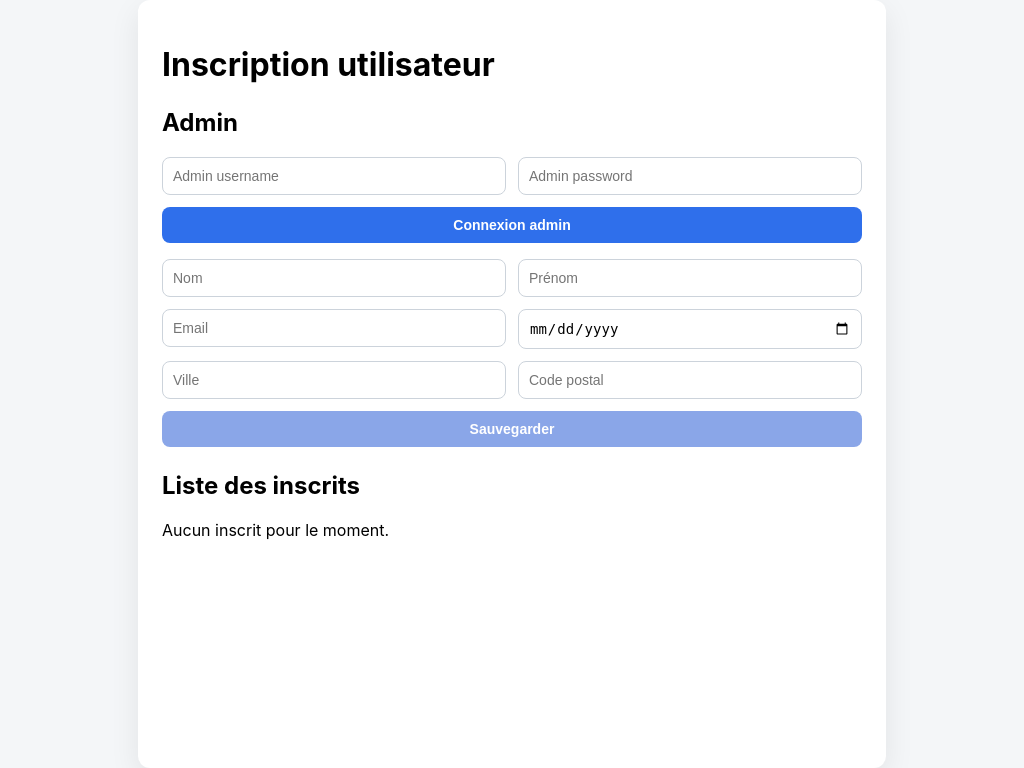
it: desactive le bouton tant que le formulaire est invalide
Expected: the button "Sauvegarder" is disabled, 162,411 -> 862,447
In the field labelled "Nom": (334, 278) 162,259 -> 506,297, type "Barrault"
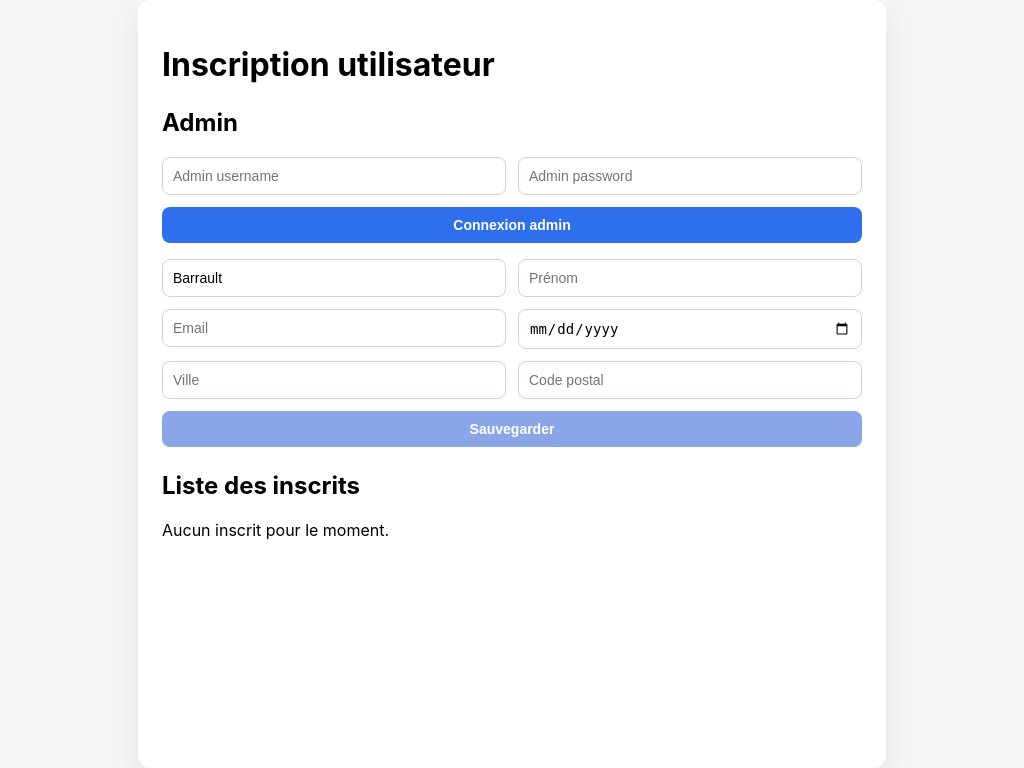
In the field labelled "Prénom": (690, 278) 518,259 -> 862,297, type "Thomas"
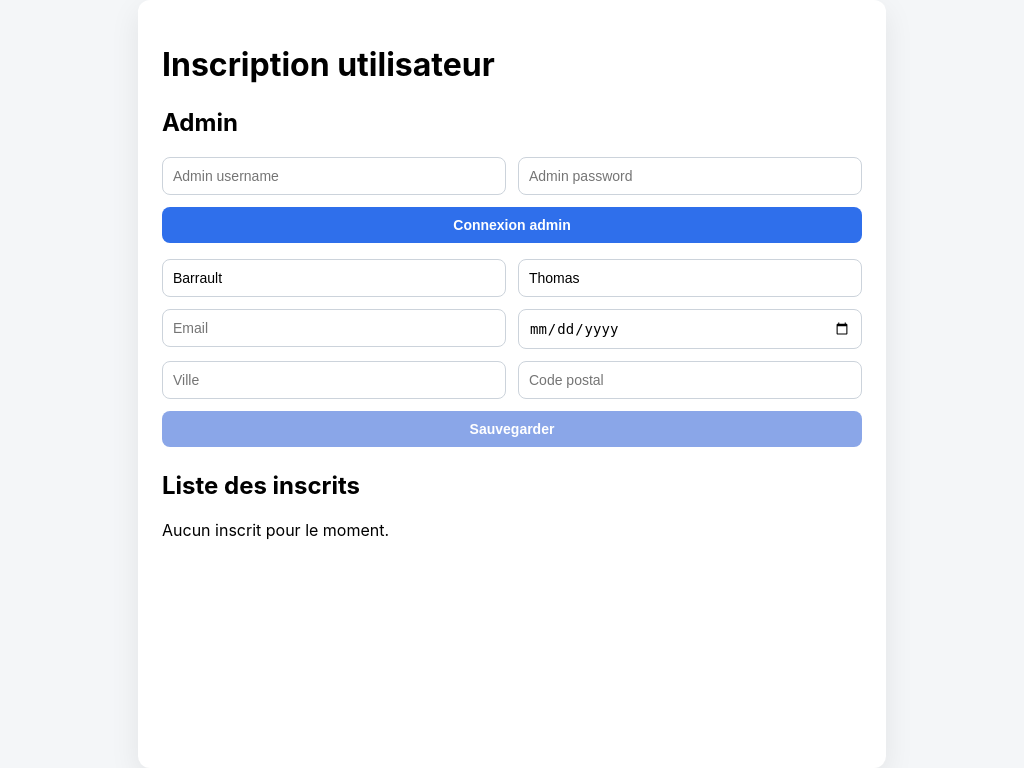
In the field labelled "Email": (334, 328) 162,309 -> 506,347, type "Thomas.Barrault@mail.com"
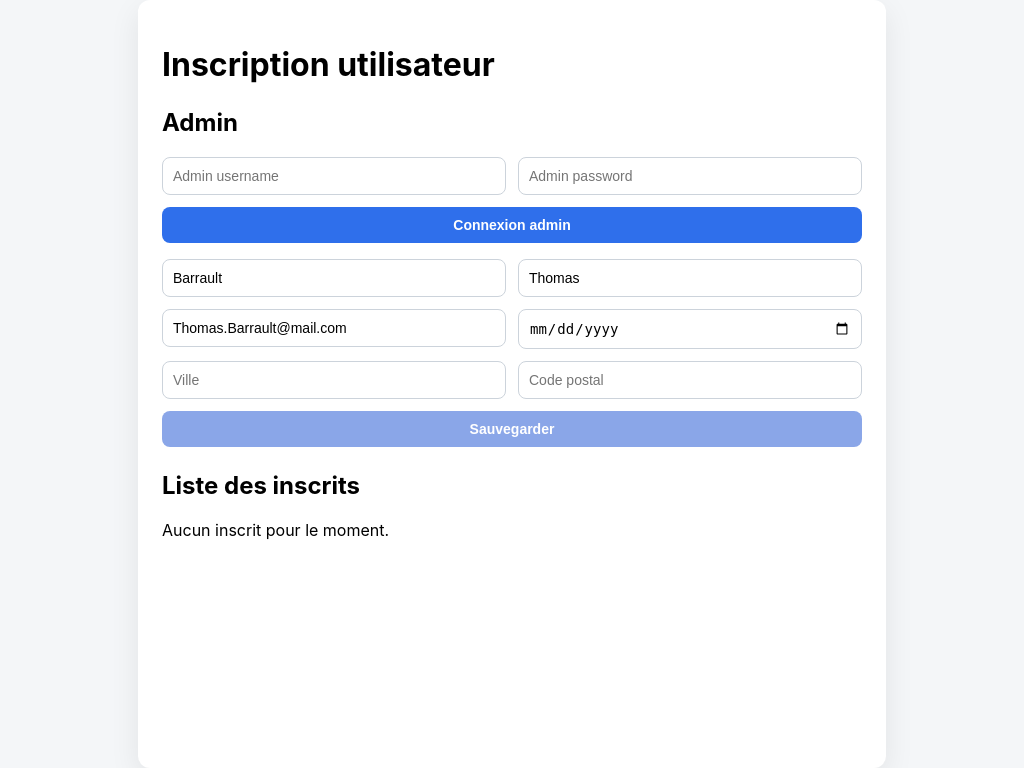
In the date field named "Date de naissance": (690, 329) 518,309 -> 862,349, type "2000-07-14"
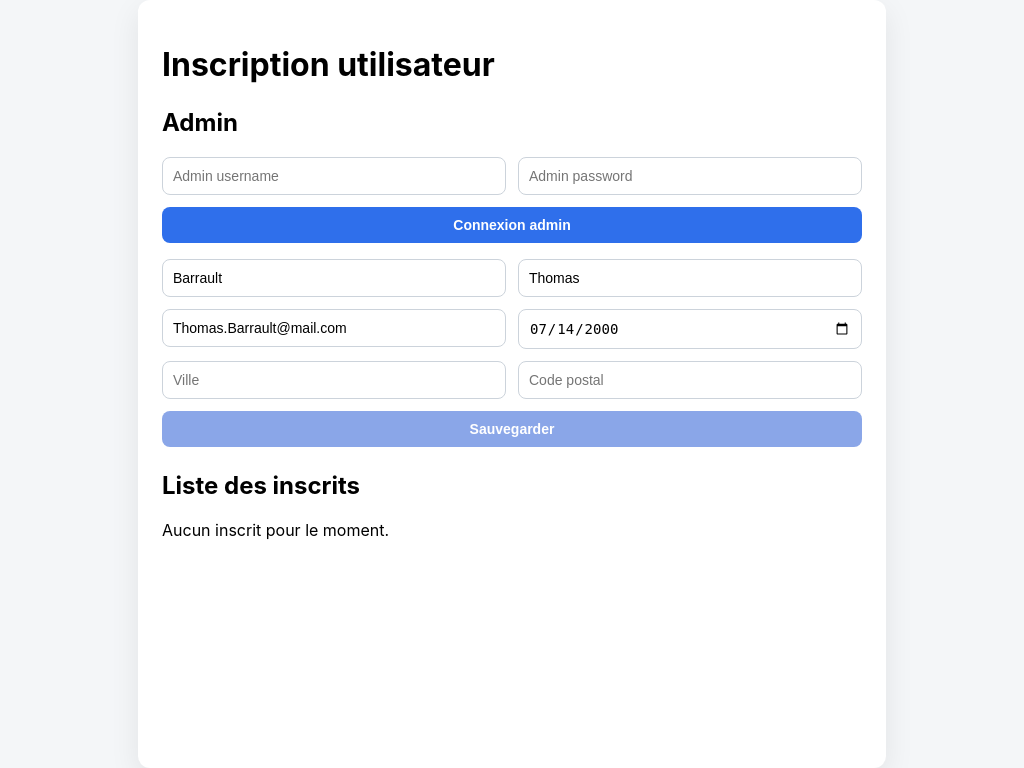
In the field labelled "Ville": (334, 380) 162,361 -> 506,399, type "Nice"
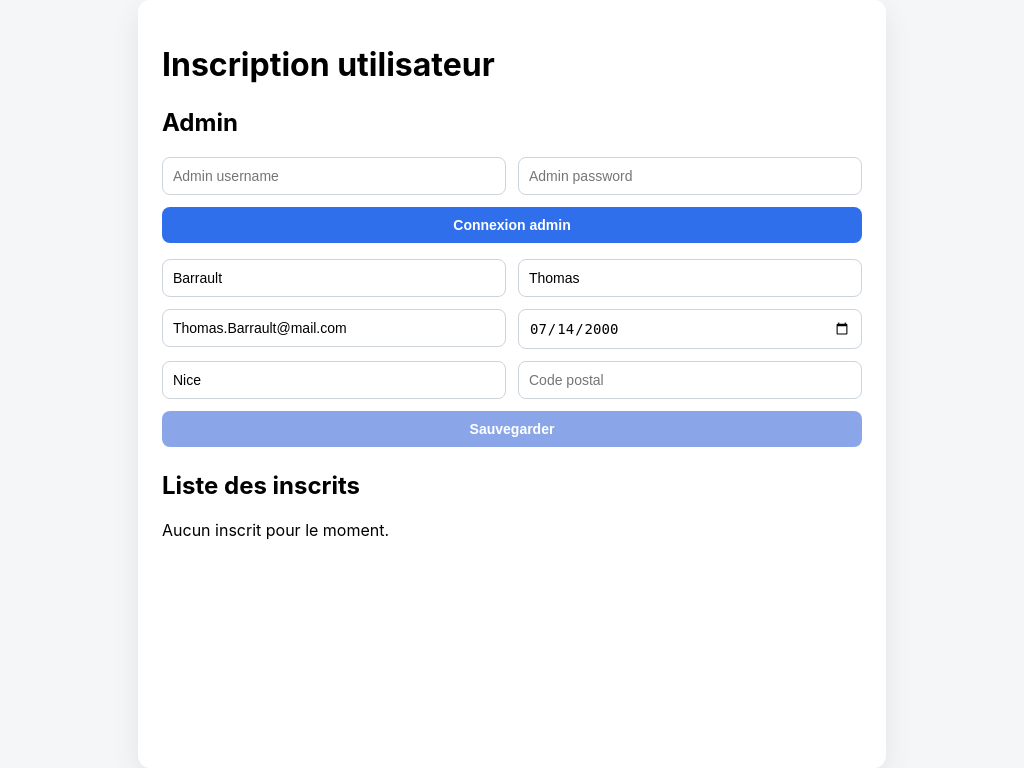
In the field labelled "Code postal": (690, 380) 518,361 -> 862,399, type "06640"
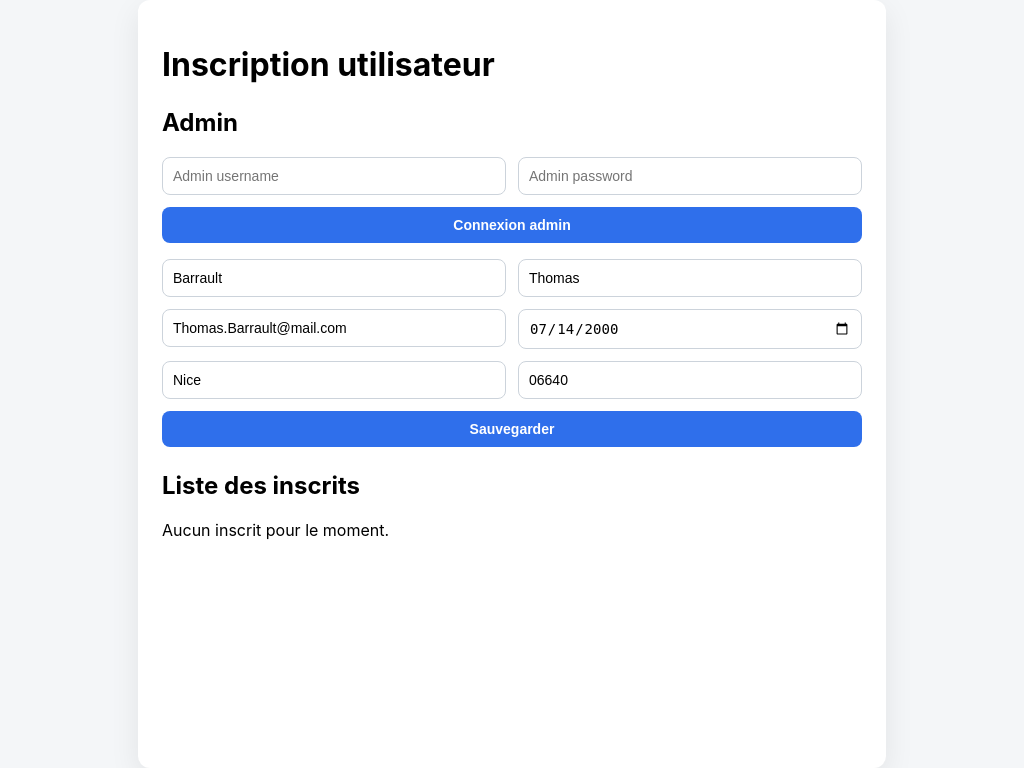
Now the button "Sauvegarder" is enabled, box 162,411 -> 862,447
